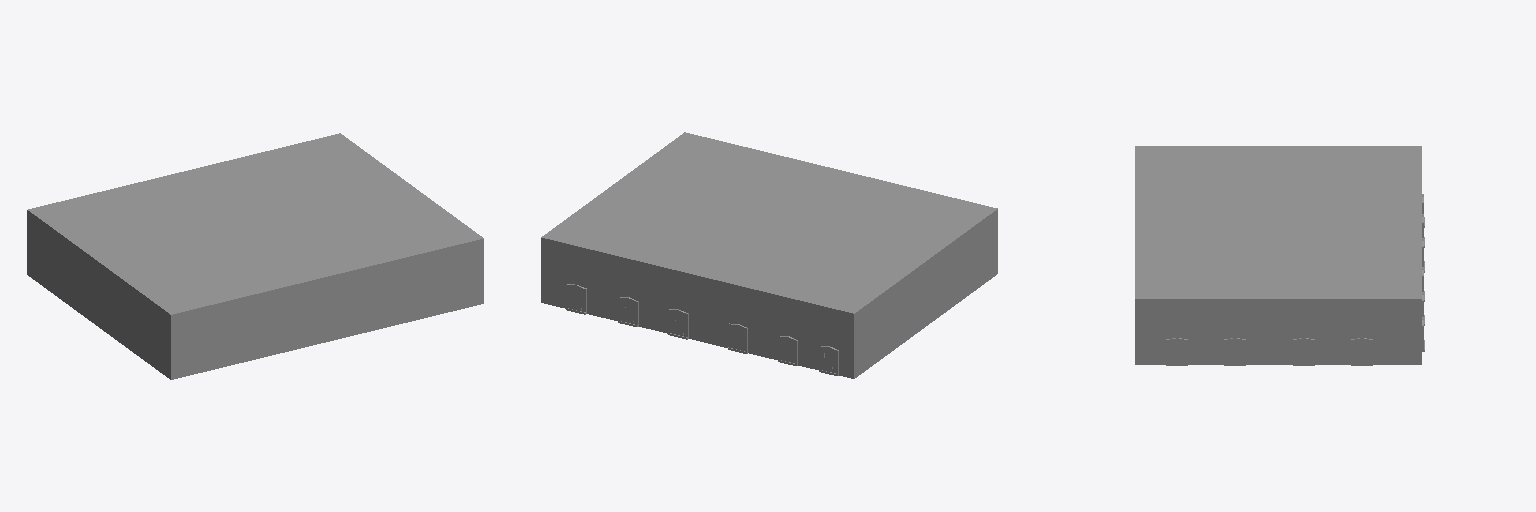
Rendered from edificio222.obj.
3 renders of one model, left to right at view 1: azimuth 30°, elevation 25°; view 2: azimuth 150°, elevation 25°; view 3: azimuth 270°, elevation 25°, orthographic.
Visible parts, largest first — view 1: Cubo.001_Cubo.021; view 2: Cubo.001_Cubo.021; view 3: Cubo.001_Cubo.021.
Part boxes in pixels (left/top/right/bottom): Cubo.001_Cubo.021: left=27, top=133, right=483, bottom=379; Cubo.001_Cubo.021: left=541, top=132, right=997, bottom=378; Cubo.001_Cubo.021: left=1135, top=146, right=1424, bottom=365.
Bounding box in the file's own units: 14.87 × 2.95 × 11.86.